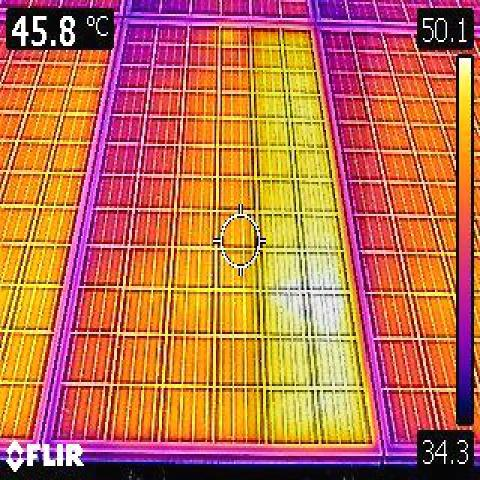fault: (248, 24, 368, 444)
